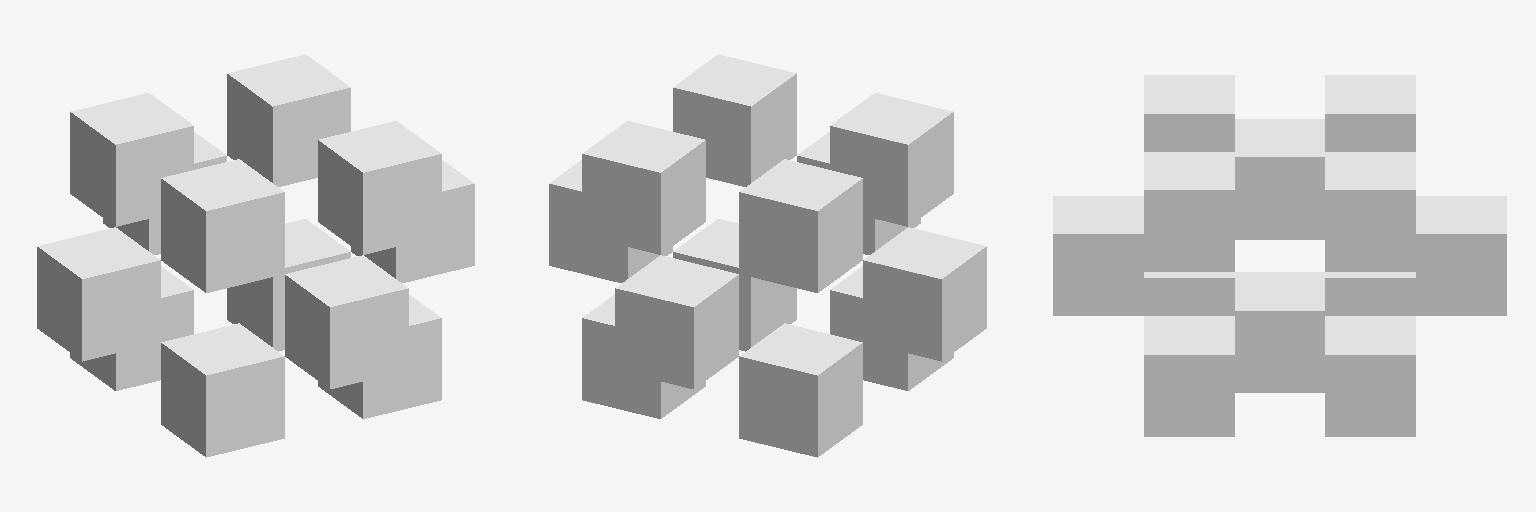
Rendered from light1.obj.
The picture shows the model from 3 angles: view 1: azimuth 30°, elevation 25°; view 2: azimuth 150°, elevation 25°; view 3: azimuth 270°, elevation 25°; orthographic projection.
Parts seen in each view (by area): view 1: lamp_light1; view 2: lamp_light1; view 3: lamp_light1.
Part boxes in pixels (bbox=[...]): lamp_light1: bbox=[37, 54, 474, 457]; lamp_light1: bbox=[549, 54, 986, 457]; lamp_light1: bbox=[1053, 75, 1506, 436].
Bounding box in the file's own units: 2.26 × 1.36 × 2.26.